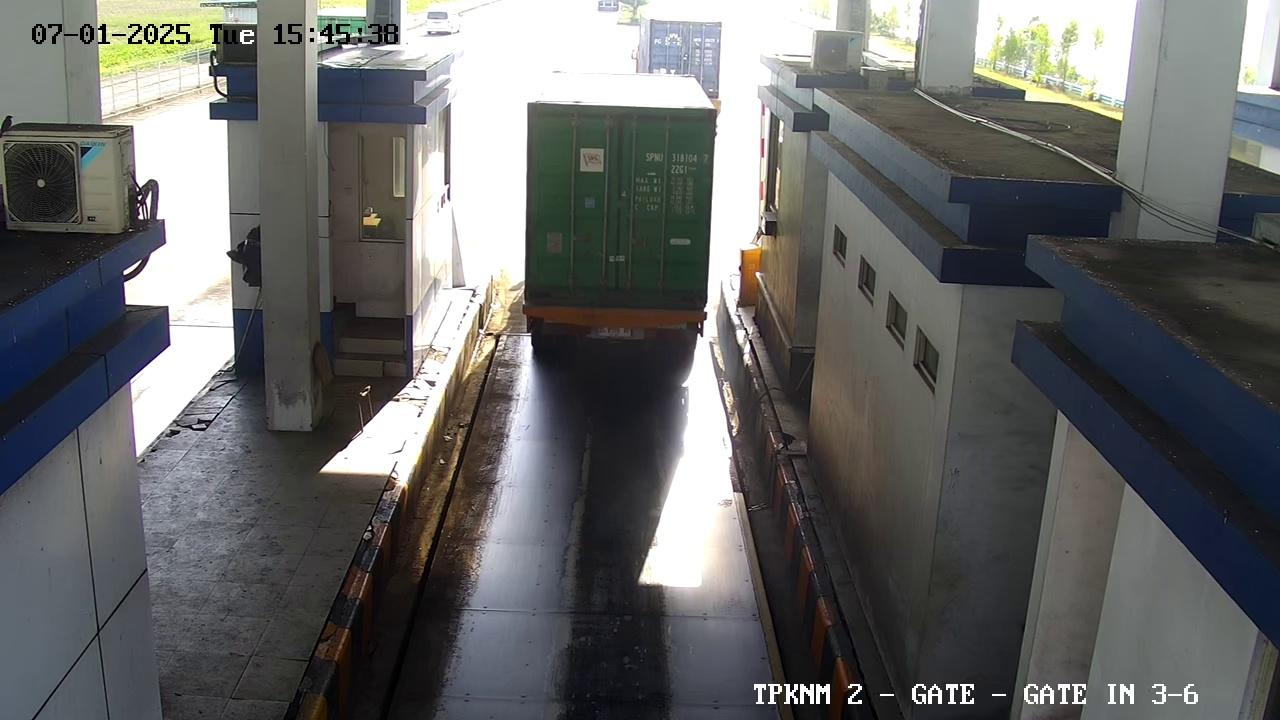Container_ID: (635, 141, 715, 163)
